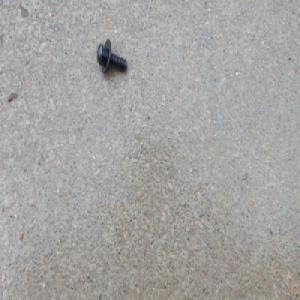BoltWasher: (96, 36, 128, 74)
